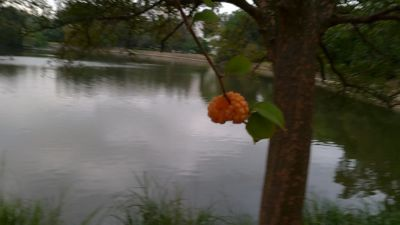eggs: (207, 92, 249, 126)
